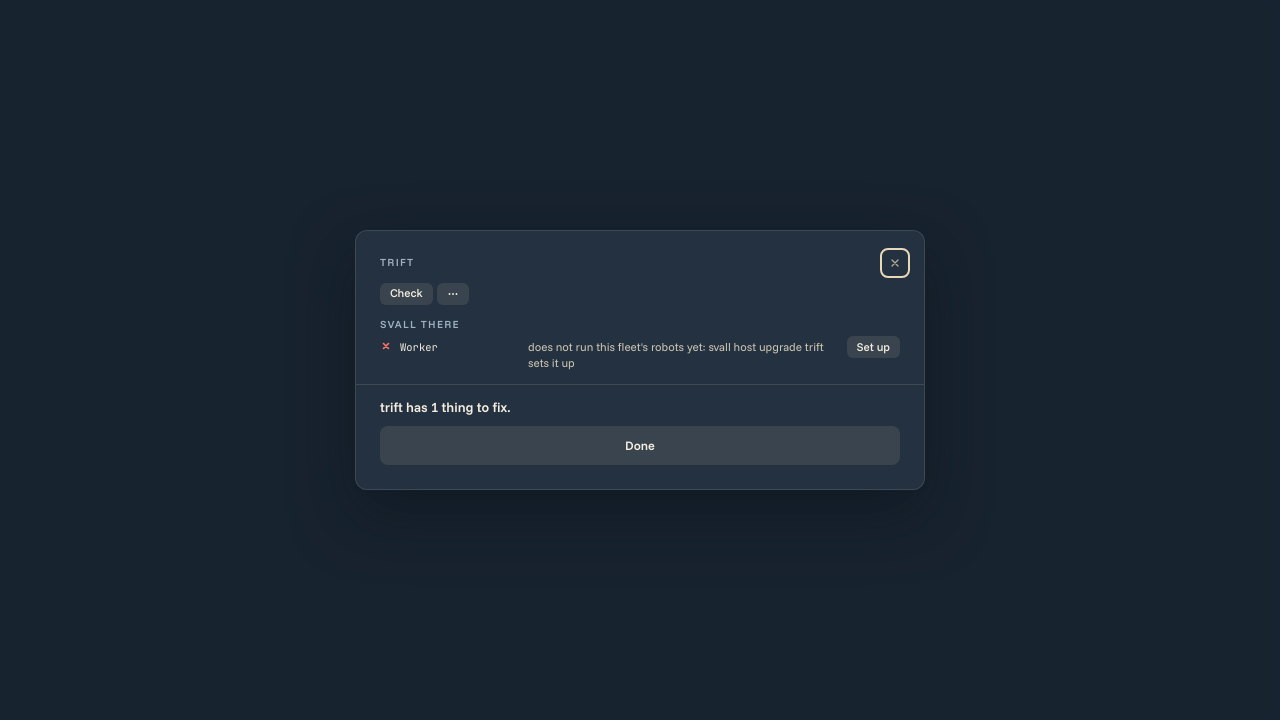
Scenario: a check that finds the machine not running this fleet's robots offers the upgrade that sets it up, and not when another Mac holds it or it runs a newer release
Click the button with test id "host-worker" at (873, 347), box left=847, top=336, right=900, bottom=358
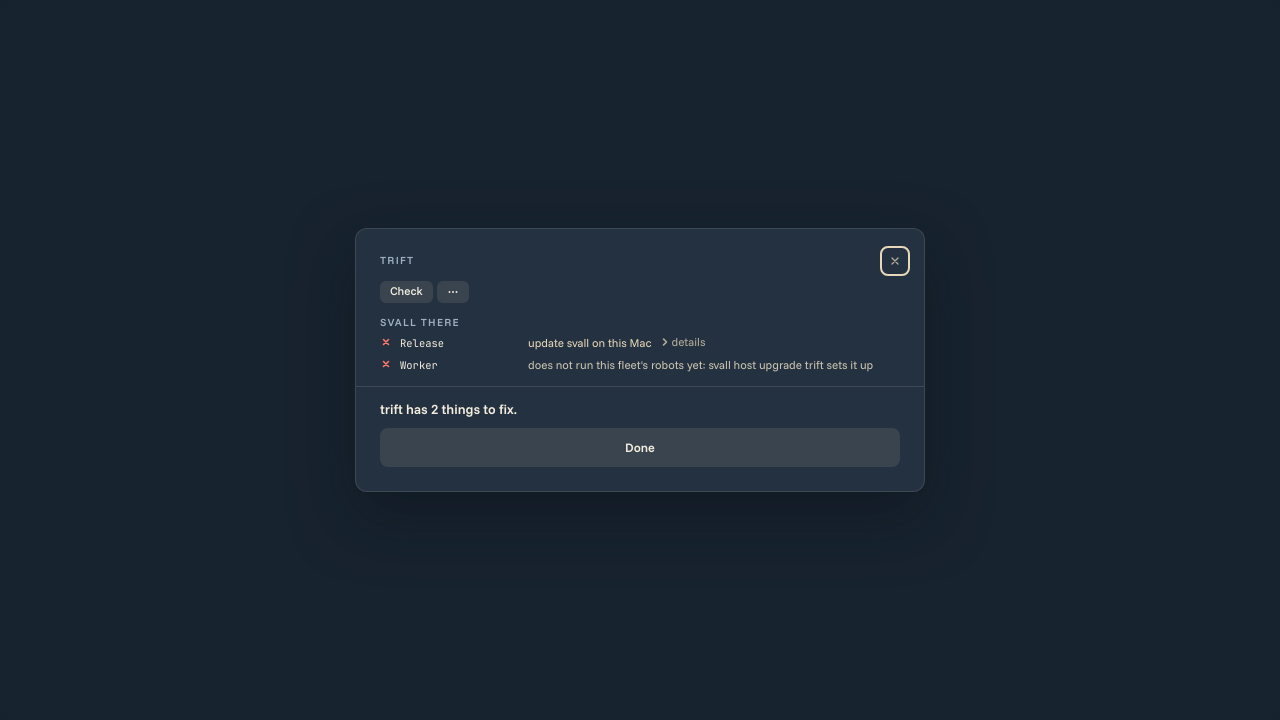
expect the button with test id "host-worker" is gone: met
